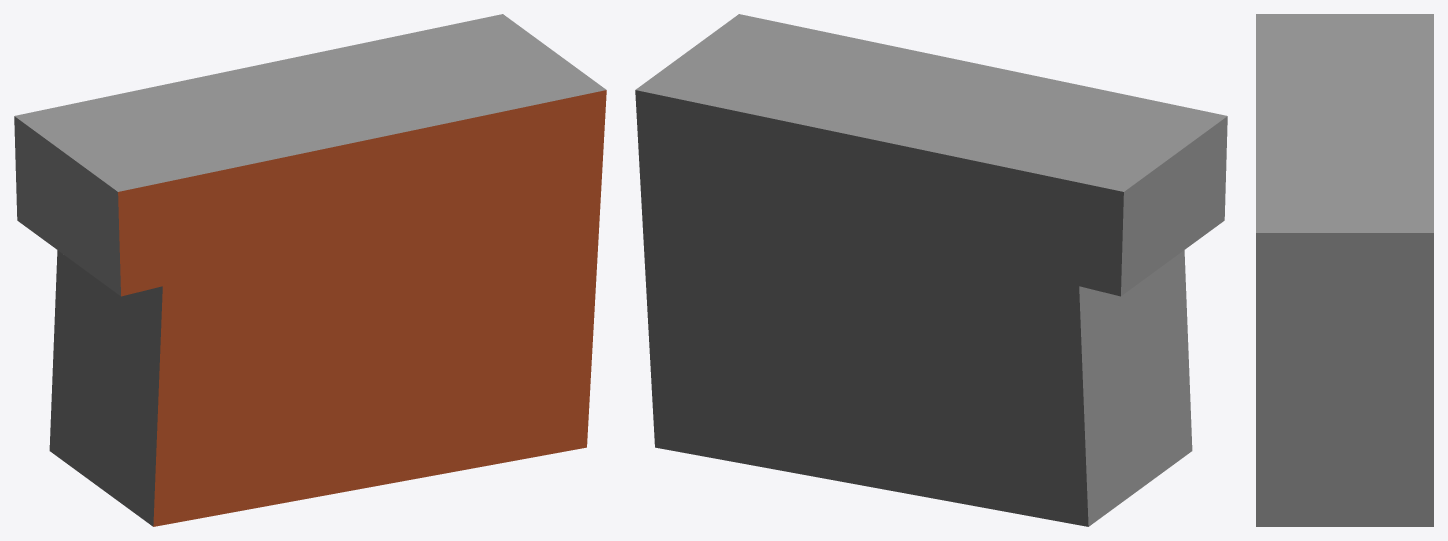
File: construction_4224_assumed_A_Casa_h6m.obj
3 views of the same model, side by side, from view 1: azimuth 30°, elevation 25°; view 2: azimuth 150°, elevation 25°; view 3: azimuth 270°, elevation 25° (orthographic). The views are drawn at different scales.
Parts seen in each view (by area): view 1: construction_4224_assumed_A_Casa; view 2: construction_4224_assumed_A_Casa; view 3: construction_4224_assumed_A_Casa.
Boxes of the visible parts, bbox=[...] form: construction_4224_assumed_A_Casa: bbox=[14, 14, 606, 526]; construction_4224_assumed_A_Casa: bbox=[635, 14, 1227, 526]; construction_4224_assumed_A_Casa: bbox=[1256, 14, 1433, 526].
Size of the model in its own units: 16.31 by 11.8 by 6.
